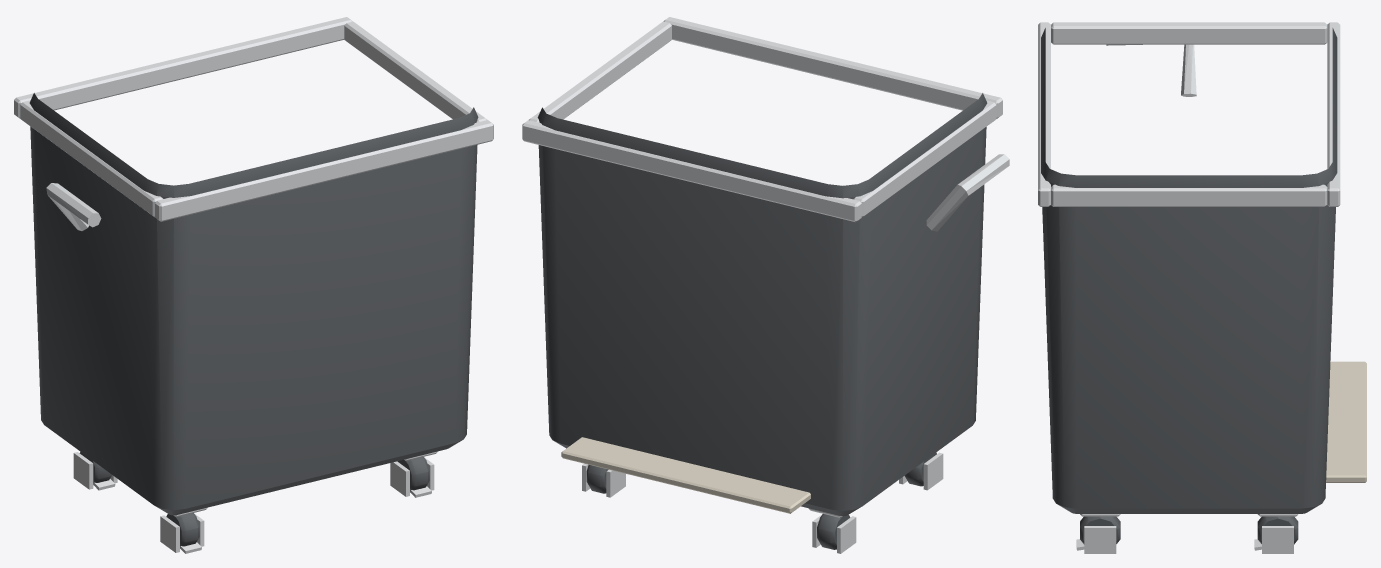
Rendered from bar-pub-and-brewery-taproom-bottle-skip-1e659d6f__18373.glb.
3 renders of one model, left to right at view 1: azimuth 30°, elevation 25°; view 2: azimuth 150°, elevation 25°; view 3: azimuth 270°, elevation 25°, orthographic. The views are drawn at different scales.
Parts seen in each view (by area): view 1: bottle-skip; view 2: bottle-skip; view 3: bottle-skip.
Part boxes in pixels (x1=…): bottle-skip: x1=14, y1=17, x2=493, y2=553; bottle-skip: x1=522, y1=17, x2=1009, y2=553; bottle-skip: x1=1038, y1=22, x2=1366, y2=553.
Size of the model in its own units: 0.7478 by 0.74 by 0.555.
